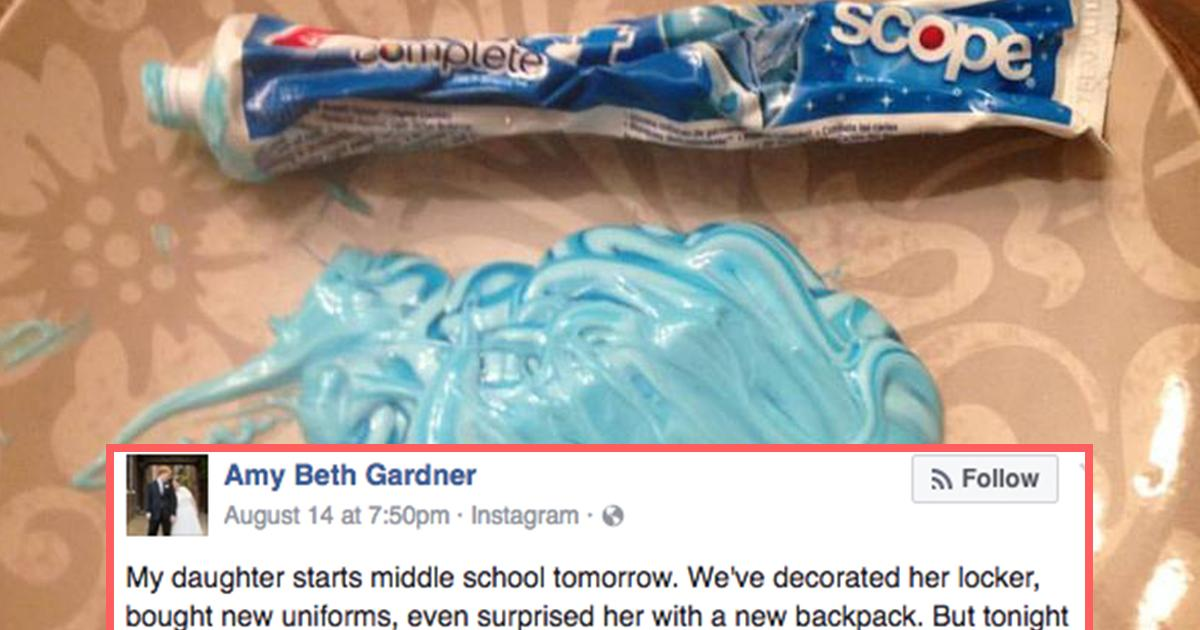toothpaste: (114, 0, 1121, 184)
